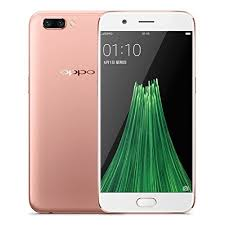oppo: (95, 7, 195, 215), (26, 7, 102, 213)
